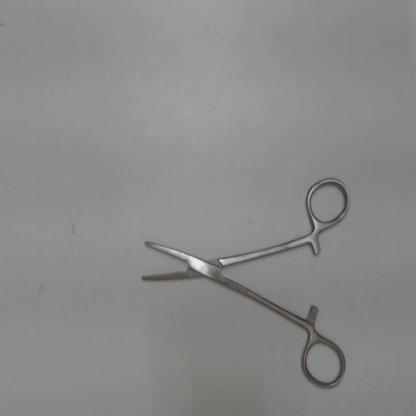Mayo Needle Holder: (135, 169, 356, 394)
